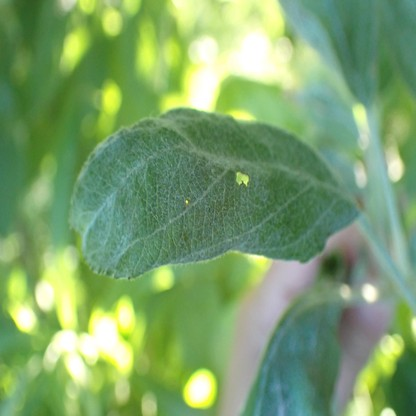powdery_mildew: (73, 107, 357, 276), (252, 296, 321, 416)
